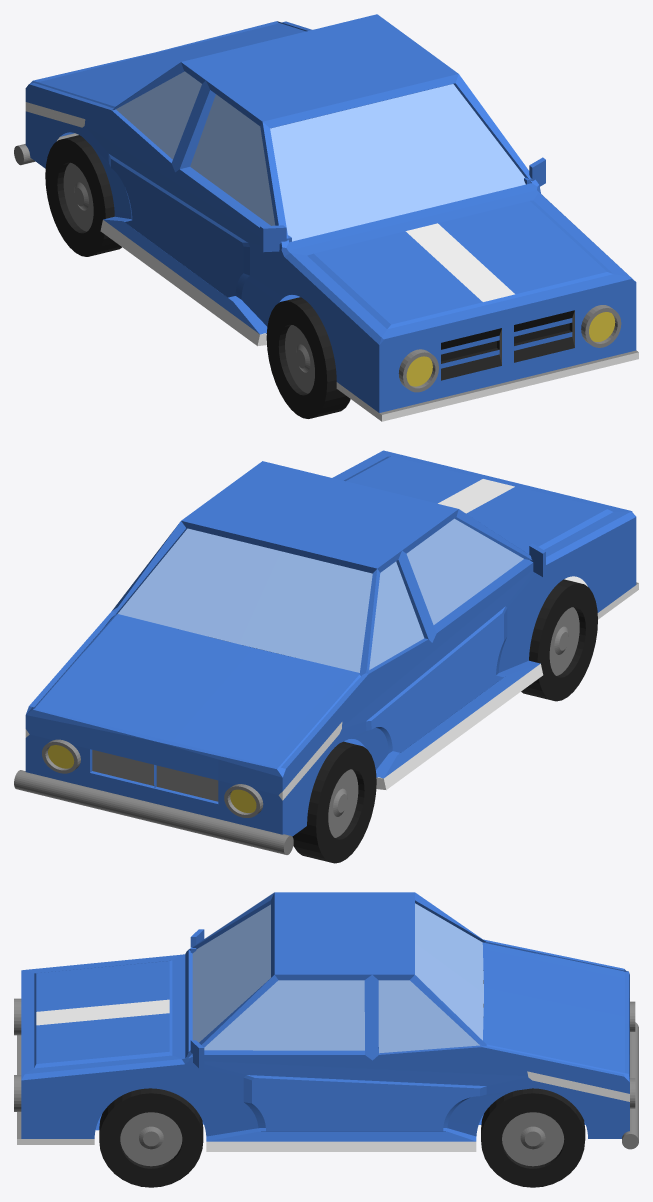
The model's file is car-2-with-moving-animation.fbx.
The picture shows the model from 3 angles, top to bottom: view 1: azimuth 30°, elevation 25°; view 2: azimuth 150°, elevation 25°; view 3: azimuth 270°, elevation 25°; orthographic projection. The views are drawn at different scales.
Parts seen in each view (by area): view 1: Cube.001, Cylinder.006, Cylinder.005; view 2: Cube.001, Cylinder.005, Cylinder.006; view 3: Cube.001, Cylinder.001, Cylinder.002.
Boxes of the visible parts, <box> form: Cube.001: <box>14,14,638,421</box>; Cylinder.006: <box>266,297,350,418</box>; Cylinder.005: <box>45,135,121,256</box>; Cube.001: <box>14,450,638,854</box>; Cylinder.005: <box>292,741,376,863</box>; Cylinder.006: <box>521,579,597,701</box>; Cube.001: <box>14,892,638,1151</box>; Cylinder.001: <box>99,1088,203,1187</box>; Cylinder.002: <box>481,1088,585,1187</box>.
Bounding box in the file's own units: 131 × 102 × 289.
